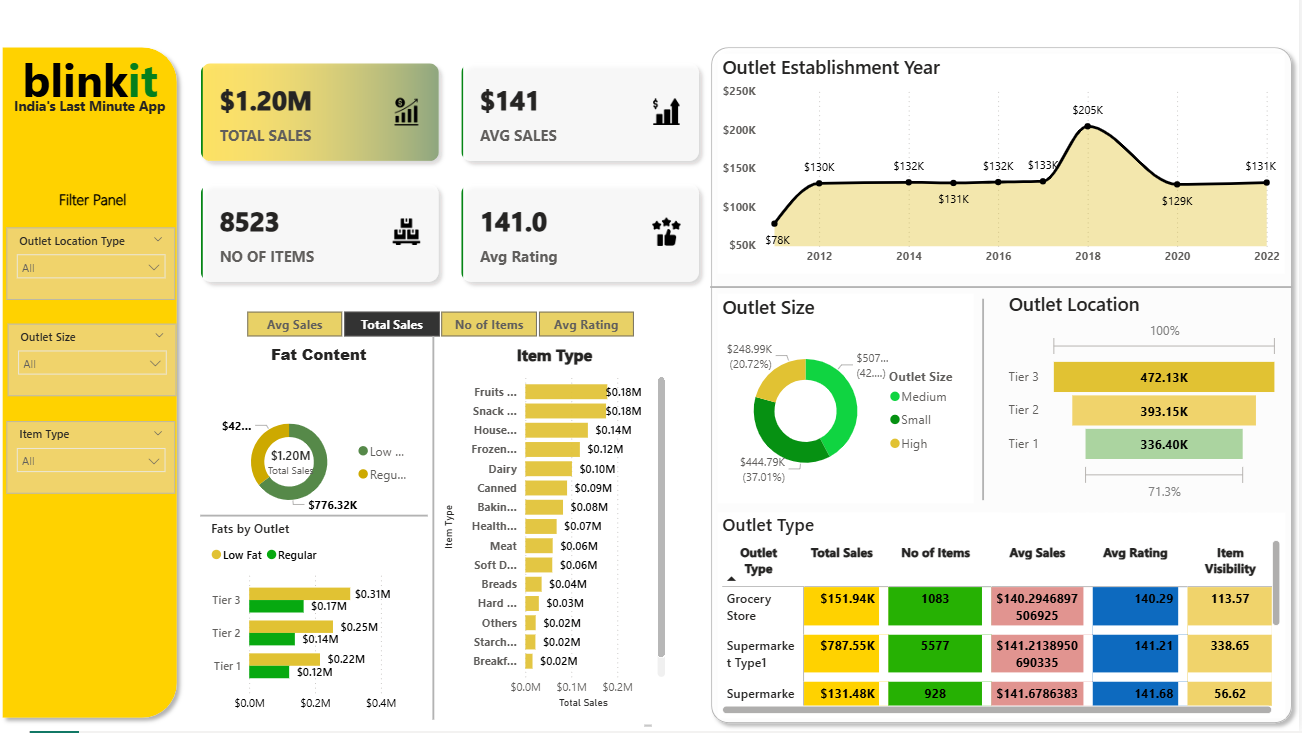

The page's visual inventory and layout, read from the dashboard file:
{"tool":"powerbi","page":{"name":"Page 1","canvas":[1400,800],"ordinal":0},"visuals":[{"type":"shape","box":[0,57.6,205.1,737.3],"z":0},{"type":"textbox","box":[13.4,63,179.6,101.9],"z":1000},{"type":"textbox","box":[252.5,63,205,737],"z":2000},{"type":"textbox","box":[505.4,788.2,205.1,12.1],"z":3000},{"type":"textbox","box":[0,113.9,205.1,33.5],"z":4000},{"type":"cardVisual","fields":{"Data":["BlinkIT Grocery Data.Total Sales","BlinkIT Grocery Data.Avg Sales","BlinkIT Grocery Data.No of Items","BlinkIT Grocery Data.Avg Rating"]},"box":[205.1,67,569.7,269.4],"z":5000},{"type":"shape","box":[759.4,57,640.9,742.9],"z":6000},{"type":"donutChart","title":" Fat Content","fields":{"Y":["BlinkIT Grocery Data.Total Sales"],"Category":["BlinkIT Grocery Data.Item Fat Content"]},"box":[238.6,384.2,219.1,231.1],"z":7000},{"type":"slicer","fields":{"Values":["Matrics.Matrics"]},"box":[245.3,343.2,465.1,40.2],"z":8000},{"type":"cardVisual","fields":{"Data":["BlinkIT Grocery Data.Total Sales"]},"box":[267.2,475.8,103.6,69],"z":9000},{"type":"clusteredBarChart","title":"Fats by Outlet ","fields":{"Y":["BlinkIT Grocery Data.Total Sales"],"Category":["BlinkIT Grocery Data.Outlet Location Type"],"Series":["BlinkIT Grocery Data.Item Fat Content"]},"box":[227.9,573.7,219.8,214.5],"z":10000},{"type":"shape","box":[221.2,556.3,244,25.5],"z":11000},{"type":"shape","box":[465.3,376.7,12,411.2],"z":12000},{"type":"barChart","title":" Item Type","fields":{"Y":["BlinkIT Grocery Data.Total Sales"],"Category":["BlinkIT Grocery Data.Item Type"]},"box":[477.3,384.2,247.6,396.2],"z":13000},{"type":"lineChart","title":" Outlet Establishment Year","fields":{"Y":["BlinkIT Grocery Data.Total Sales"],"Category":["BlinkIT Grocery Data.Outlet Establishment Year"]},"box":[775.9,73.5,607.8,235.6],"z":14000},{"type":"shape","box":[768.4,309.2,624.4,28.5],"z":15000},{"type":"donutChart","title":" Outlet Size","fields":{"Category":["BlinkIT Grocery Data.Outlet Size"],"Y":["BlinkIT Grocery Data.Total Sales"]},"box":[775.9,331.7,274.7,225.1],"z":16000},{"type":"funnel","title":" Outlet Location ","fields":{"Category":["BlinkIT Grocery Data.Outlet Location Type"],"Y":["Sum(BlinkIT Grocery Data.Sales)"]},"box":[1083.6,328.7,300.2,229.6],"z":17000},{"type":"shape","box":[1050.6,336.2,19.5,216.1],"z":18000},{"type":"pivotTable","title":"Outlet Type","fields":{"Rows":["BlinkIT Grocery Data.Outlet Type"],"Values":["BlinkIT Grocery Data.Total Sales","BlinkIT Grocery Data.No of Items","BlinkIT Grocery Data.Avg Sales","BlinkIT Grocery Data.Avg Rating","Sum(BlinkIT Grocery Data.Item Visibility)"]},"box":[776.1,565.7,608.6,221.2],"z":19000},{"type":"slicer","fields":{"Values":["BlinkIT Grocery Data.Outlet Location Type"]},"box":[13.4,260.1,181,77.7],"z":20000},{"type":"slicer","fields":{"Values":["BlinkIT Grocery Data.Outlet Size"]},"box":[14.7,363.3,181,77.7],"z":21000},{"type":"slicer","fields":{"Values":["BlinkIT Grocery Data.Item Type"]},"box":[13.4,467.8,181,77.7],"z":22000},{"type":"textbox","box":[53.6,213.1,104.6,46.9],"z":23000}]}

Visuals, with their boxes in screenshot pixels (x1, y1, x2, y2), scaled from the page's 1400x800 canvas onto the 1302x733 screenshot:
shape: [0,53,191,728]
textbox: [12,58,179,151]
textbox: [235,58,425,732]
textbox: [470,722,661,732]
textbox: [0,104,191,135]
cardVisual - BlinkIT Grocery Data.Total Sales x BlinkIT Grocery Data.Avg Sales: [191,61,721,308]
shape: [706,52,1301,732]
" Fat Content" donutChart: [222,352,426,564]
slicer - Matrics.Matrics: [228,314,661,351]
cardVisual - BlinkIT Grocery Data.Total Sales: [248,436,345,499]
"Fats by Outlet " clusteredBarChart: [212,526,416,722]
shape: [206,510,433,533]
shape: [433,345,444,722]
" Item Type" barChart: [444,352,674,715]
" Outlet Establishment Year" lineChart: [722,67,1287,283]
shape: [715,283,1295,309]
" Outlet Size" donutChart: [722,304,977,510]
" Outlet Location " funnel: [1008,301,1287,512]
shape: [977,308,995,506]
"Outlet Type" pivotTable: [722,518,1288,721]
slicer - BlinkIT Grocery Data.Outlet Location Type: [12,238,181,310]
slicer - BlinkIT Grocery Data.Outlet Size: [14,333,182,404]
slicer - BlinkIT Grocery Data.Item Type: [12,429,181,500]
textbox: [50,195,147,238]
